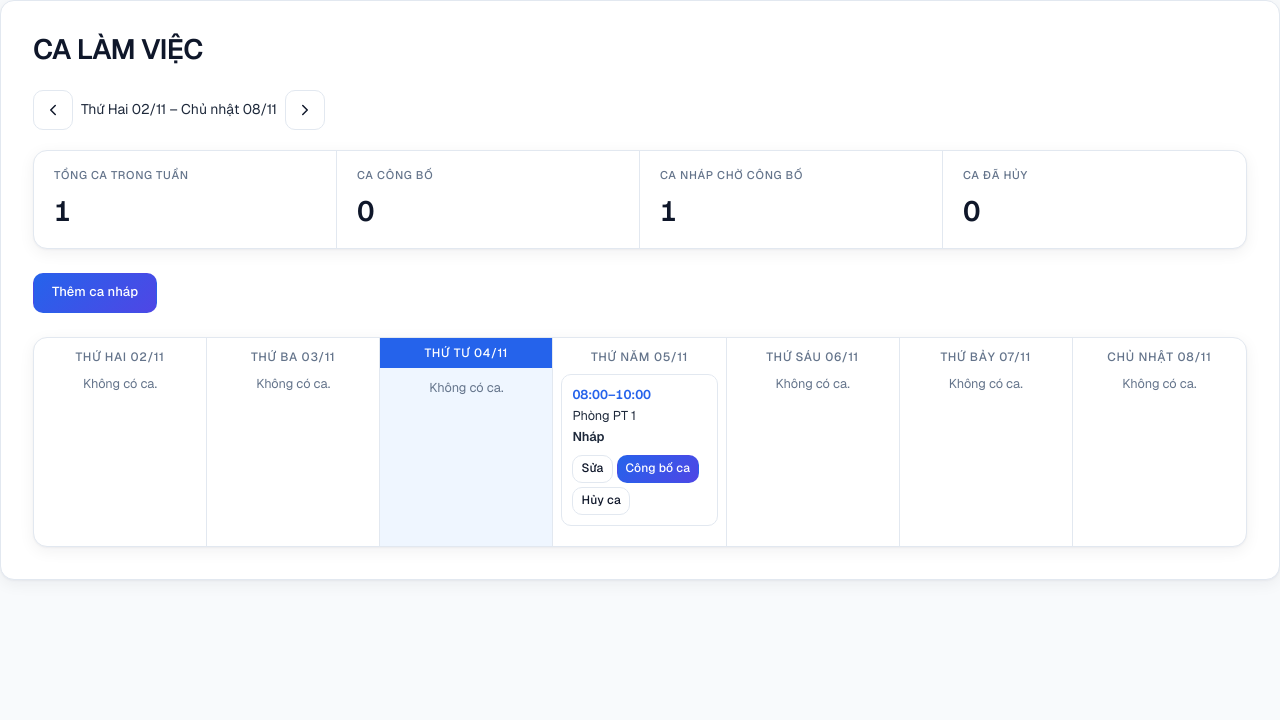
Scenario: US-25 bước 3: công bố và hủy ca trên trang ca làm việc › US-25-TC01: "Công bố ca" gửi version đang hiển thị và một UUID; xong báo "Đã công bố ca" và tải lại từ REST
Click the button "Công bố ca": (658, 469) left=616, top=455, right=699, bottom=483
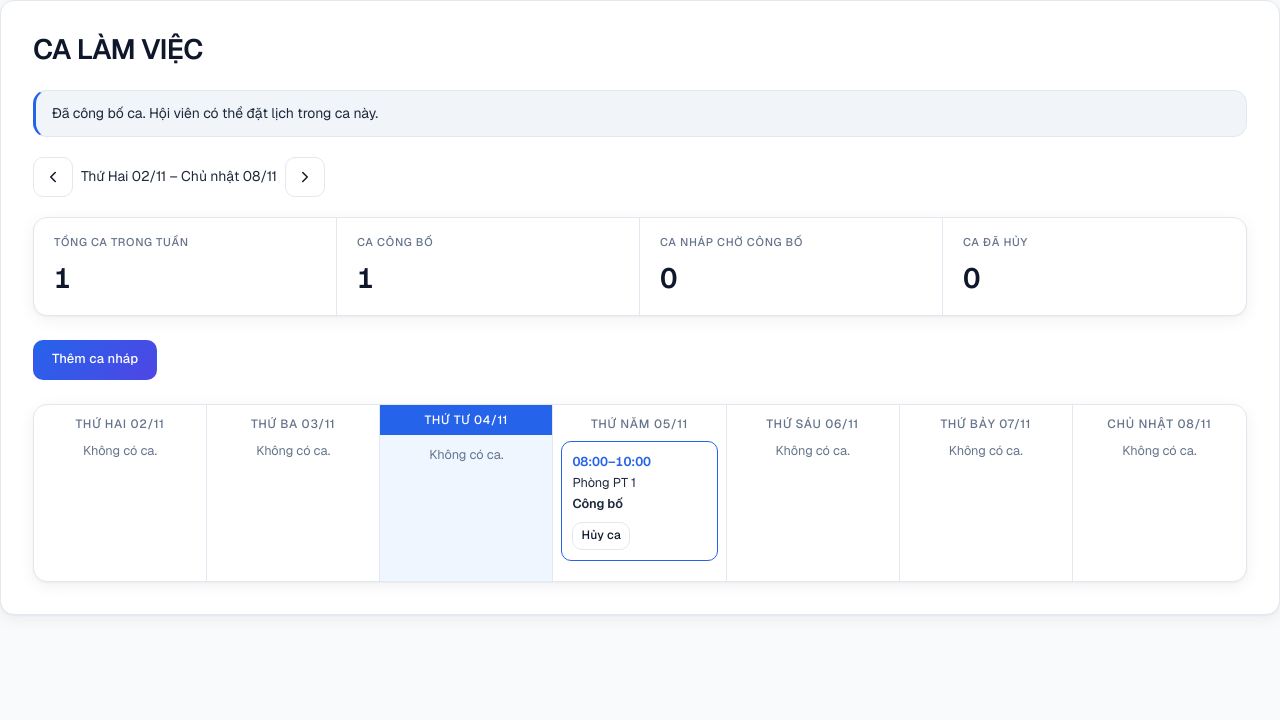
Check: the message shows "Đã công bố ca", box left=52, top=104, right=378, bottom=122
Check: the text "Công bố" is shown, box left=572, top=495, right=623, bottom=512
